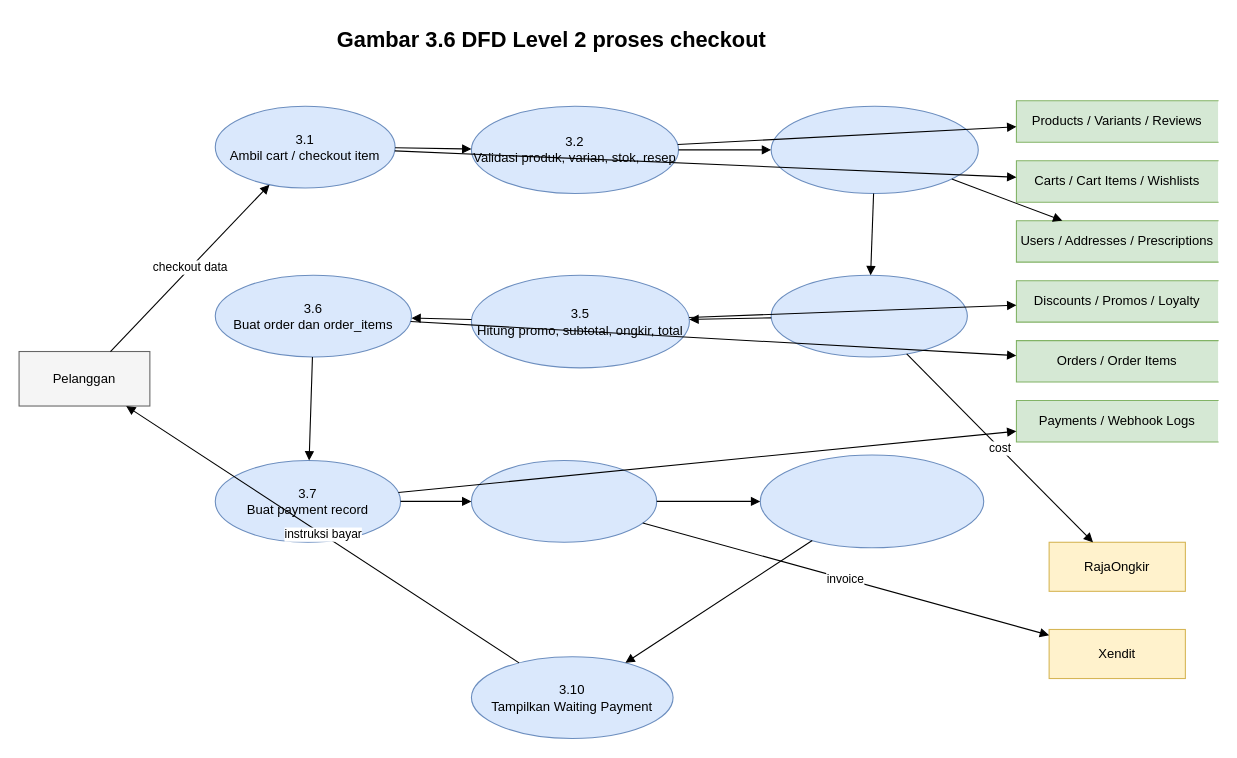
The diagram is 1237 pixels wide and 758 high, and some of its shapes have lost their labels. Each missing label, with the box of its shape:
3.3 Validasi user, alamat, profil resep: (770, 105, 978, 193)
3.4 Hitung ongkir RajaOngkir: (770, 274, 967, 357)
3.8 Buat invoice Xendit: (470, 459, 657, 542)
3.9 Simpan checkout_url / transaction_id: (759, 454, 984, 548)
